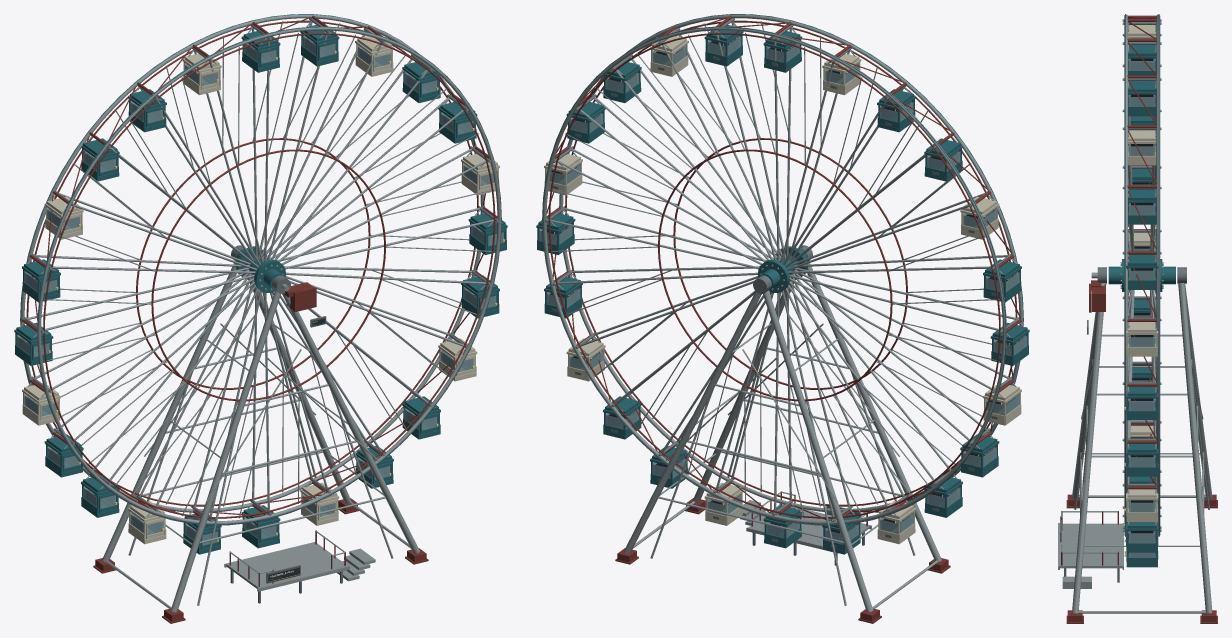
The model's file is PROJECT_Z_FW40_Skyring_Ferris_Wheel.glb.
3 views of the same model, side by side, from view 1: azimuth 30°, elevation 25°; view 2: azimuth 150°, elevation 25°; view 3: azimuth 270°, elevation 25° (orthographic). The views are drawn at different scales.
Visible parts, largest first — view 1: SM_Wheel_Outer_Rim_Twin_Steel_Rings, SM_Wheel_Triangulated_Spoke_Gussets, SM_Support_Portal_4_Tapered_Steel_Legs, SM_Support_Lateral_Cross_Braces, SM_Wheel_Inner_Rim_Lip, SM_Wheel_Intermediate_Stiffening_Rings, SM_Platform_Tread_Plate_And_Rim, SM_Wheel_Outer_Rim_Enamel_Stripes, SM_Wheel_Rim_Axial_CrossBraces, SM_Wheel_Cabin_Suspension_Axles, SM_Wheel_Central_Hub_Dual_Flanges, SM_Support_Footing_Anchor_Pads (+24 smaller); view 2: SM_Wheel_Outer_Rim_Twin_Steel_Rings, SM_Wheel_Triangulated_Spoke_Gussets, SM_Support_Portal_4_Tapered_Steel_Legs, SM_Support_Lateral_Cross_Braces, SM_Wheel_Inner_Rim_Lip, SM_Wheel_Intermediate_Stiffening_Rings, SM_Wheel_Rim_Axial_CrossBraces, SM_Wheel_Outer_Rim_Enamel_Stripes, SM_Wheel_Cabin_Suspension_Axles, SM_Platform_Tread_Plate_And_Rim, SM_Wheel_Central_Hub_Dual_Flanges, SM_Support_Footing_Anchor_Pads (+22 smaller); view 3: SM_Support_Portal_4_Tapered_Steel_Legs, SM_Wheel_Outer_Rim_Twin_Steel_Rings, SM_Support_Lateral_Cross_Braces, SM_Platform_Tread_Plate_And_Rim, SM_Wheel_Rim_Axial_CrossBraces, SM_Wheel_Outer_Rim_Enamel_Stripes, SM_Wheel_Cabin_Suspension_Axles, SM_Cabin_06_Enamel_Shell_And_Window_Frame, SM_Cabin_07_Enamel_Shell_And_Window_Frame, SM_Cabin_05_Enamel_Shell_And_Window_Frame, SM_Cabin_04_Enamel_Shell_And_Window_Frame, SM_Cabin_08_Enamel_Shell_And_Window_Frame (+27 smaller).
Boxes of the visible parts, bbox=[...] form: SM_Wheel_Outer_Rim_Twin_Steel_Rings: bbox=[20, 14, 501, 524]; SM_Wheel_Triangulated_Spoke_Gussets: bbox=[43, 21, 493, 518]; SM_Support_Portal_4_Tapered_Steel_Legs: bbox=[102, 263, 419, 612]; SM_Support_Lateral_Cross_Braces: bbox=[105, 315, 410, 609]; SM_Wheel_Inner_Rim_Lip: bbox=[26, 20, 495, 518]; SM_Wheel_Intermediate_Stiffening_Rings: bbox=[136, 138, 385, 401]; SM_Platform_Tread_Plate_And_Rim: bbox=[224, 542, 349, 591]; SM_Wheel_Outer_Rim_Enamel_Stripes: bbox=[20, 14, 501, 525]; SM_Wheel_Rim_Axial_CrossBraces: bbox=[22, 15, 497, 520]; SM_Wheel_Cabin_Suspension_Axles: bbox=[24, 18, 498, 521]; SM_Wheel_Central_Hub_Dual_Flanges: bbox=[236, 246, 285, 292]; SM_Support_Footing_Anchor_Pads: bbox=[93, 498, 428, 623]; SM_Wheel_Outer_Rim_Twin_Steel_Rings: bbox=[542, 14, 1023, 524]; SM_Wheel_Triangulated_Spoke_Gussets: bbox=[550, 21, 1000, 518]; SM_Support_Portal_4_Tapered_Steel_Legs: bbox=[624, 263, 941, 612]; SM_Support_Lateral_Cross_Braces: bbox=[633, 315, 938, 609]; SM_Wheel_Inner_Rim_Lip: bbox=[548, 20, 1017, 518]; SM_Wheel_Intermediate_Stiffening_Rings: bbox=[658, 138, 907, 401]; SM_Wheel_Rim_Axial_CrossBraces: bbox=[546, 15, 1021, 520]; SM_Wheel_Outer_Rim_Enamel_Stripes: bbox=[542, 14, 1023, 525]; SM_Wheel_Cabin_Suspension_Axles: bbox=[545, 18, 1019, 521]; SM_Platform_Tread_Plate_And_Rim: bbox=[746, 503, 871, 553]; SM_Wheel_Central_Hub_Dual_Flanges: bbox=[758, 246, 807, 292]; SM_Support_Footing_Anchor_Pads: bbox=[615, 498, 950, 623]; SM_Support_Portal_4_Tapered_Steel_Legs: bbox=[1072, 283, 1212, 613]; SM_Wheel_Outer_Rim_Twin_Steel_Rings: bbox=[1124, 14, 1160, 536]; SM_Support_Lateral_Cross_Braces: bbox=[1074, 334, 1209, 613]; SM_Platform_Tread_Plate_And_Rim: bbox=[1058, 523, 1123, 569]; SM_Wheel_Rim_Axial_CrossBraces: bbox=[1127, 15, 1156, 532]; SM_Wheel_Outer_Rim_Enamel_Stripes: bbox=[1125, 14, 1159, 536]; SM_Wheel_Cabin_Suspension_Axles: bbox=[1123, 19, 1160, 531]; SM_Cabin_06_Enamel_Shell_And_Window_Frame: bbox=[1126, 386, 1158, 420]; SM_Cabin_07_Enamel_Shell_And_Window_Frame: bbox=[1126, 443, 1158, 476]; SM_Cabin_05_Enamel_Shell_And_Window_Frame: bbox=[1126, 322, 1158, 356]; SM_Cabin_04_Enamel_Shell_And_Window_Frame: bbox=[1126, 254, 1158, 289]; SM_Cabin_08_Enamel_Shell_And_Window_Frame: bbox=[1126, 489, 1158, 521].
Size of the model in its own units: 37.29 by 40.16 by 11.1.
9 materials, 6 textured.
